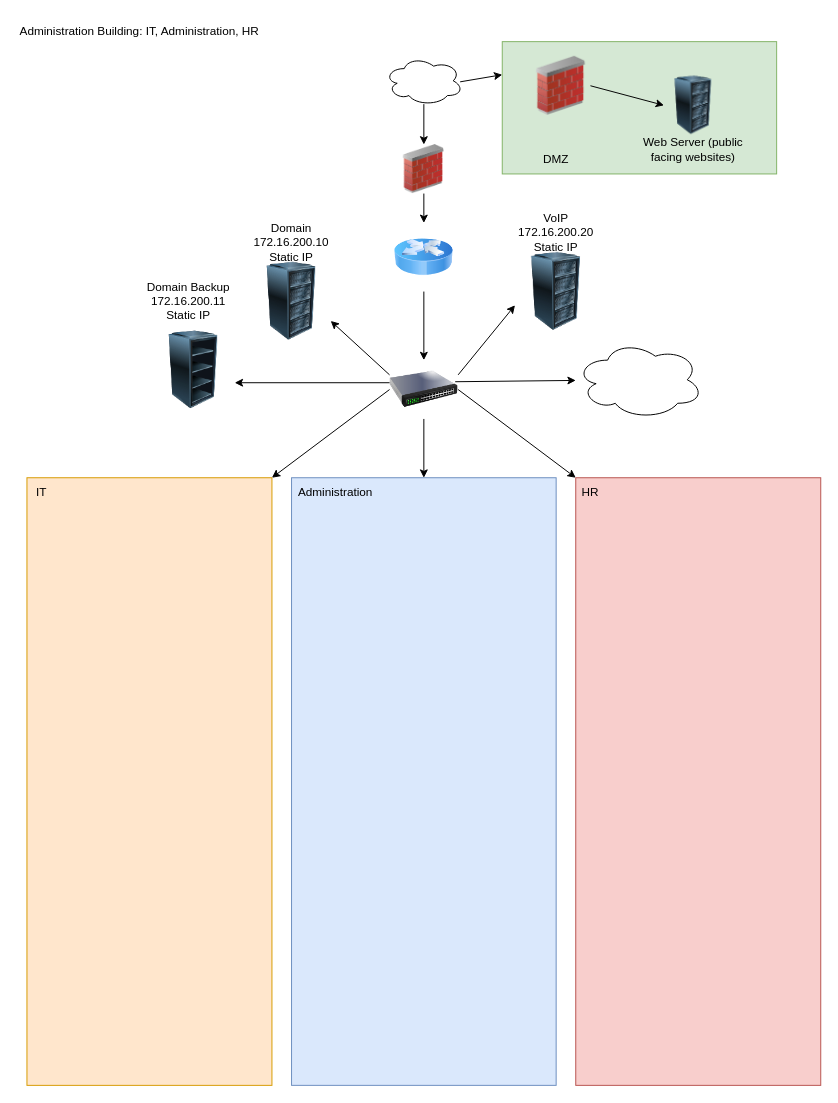
This 838x1103 diagram has some shape labels left out. The box of each missing label's shape, as (x1, y1, x2, y2) in pixels:
ISP: (384, 55, 463, 105)
Other Buildings: (575, 340, 703, 419)
